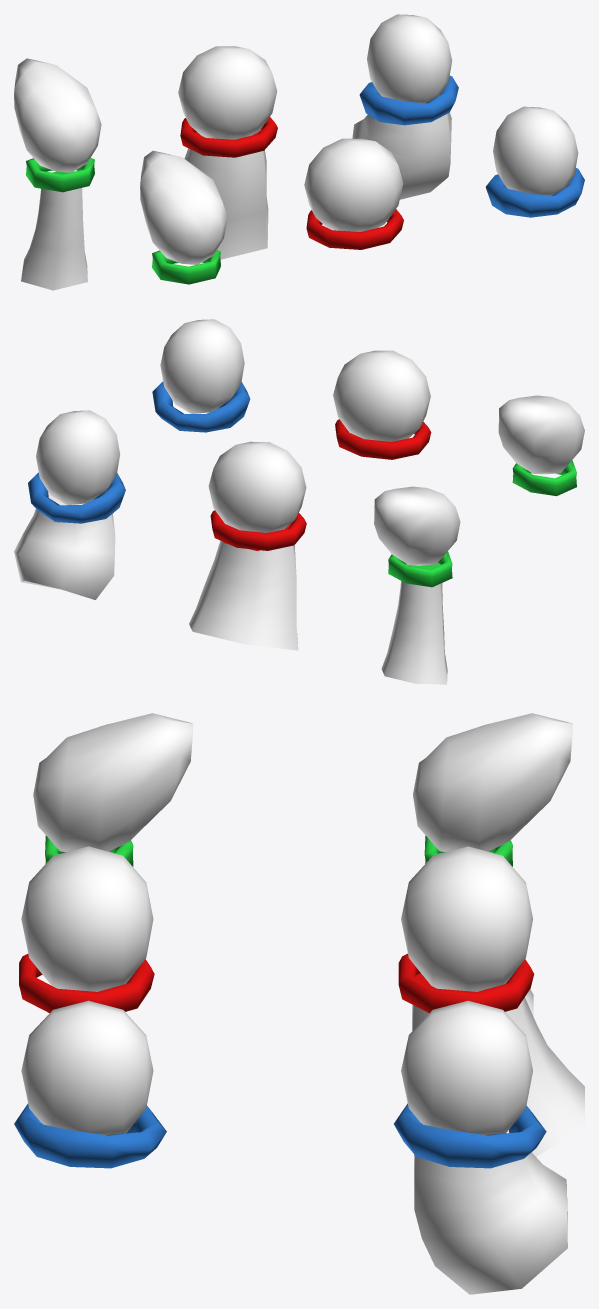
3 views of the same model, one above another, from view 1: azimuth 30°, elevation 25°; view 2: azimuth 150°, elevation 25°; view 3: azimuth 270°, elevation 25° (orthographic). The views are drawn at different scales.
Visible parts, largest first — view 1: Cone001 (×2), Cone002, Cone005, Cone003, Cone004; view 2: Cone001 (×2), Cone002, Cone005, Cone004, Cone003; view 3: Cone001 (×2), Cone002, Cone004, Cone005, Cone003.
Part boxes in pixels (<box>): Cone001 (×2): <box>14,46,277,290</box>; Cone002: <box>352,14,458,199</box>; Cone005: <box>304,138,403,249</box>; Cone003: <box>140,150,227,284</box>; Cone004: <box>485,106,584,217</box>; Cone001 (×2): <box>189,441,460,684</box>; Cone002: <box>14,410,125,599</box>; Cone005: <box>333,350,431,459</box>; Cone004: <box>152,319,250,432</box>; Cone003: <box>498,395,584,496</box>; Cone001 (×2): <box>398,713,584,1156</box>; Cone002: <box>394,1000,567,1294</box>; Cone004: <box>14,1000,166,1168</box>; Cone005: <box>19,846,154,1013</box>; Cone003: <box>33,713,193,866</box>.
Bounding box in the file's own units: 114 × 51.37 × 85.83.
